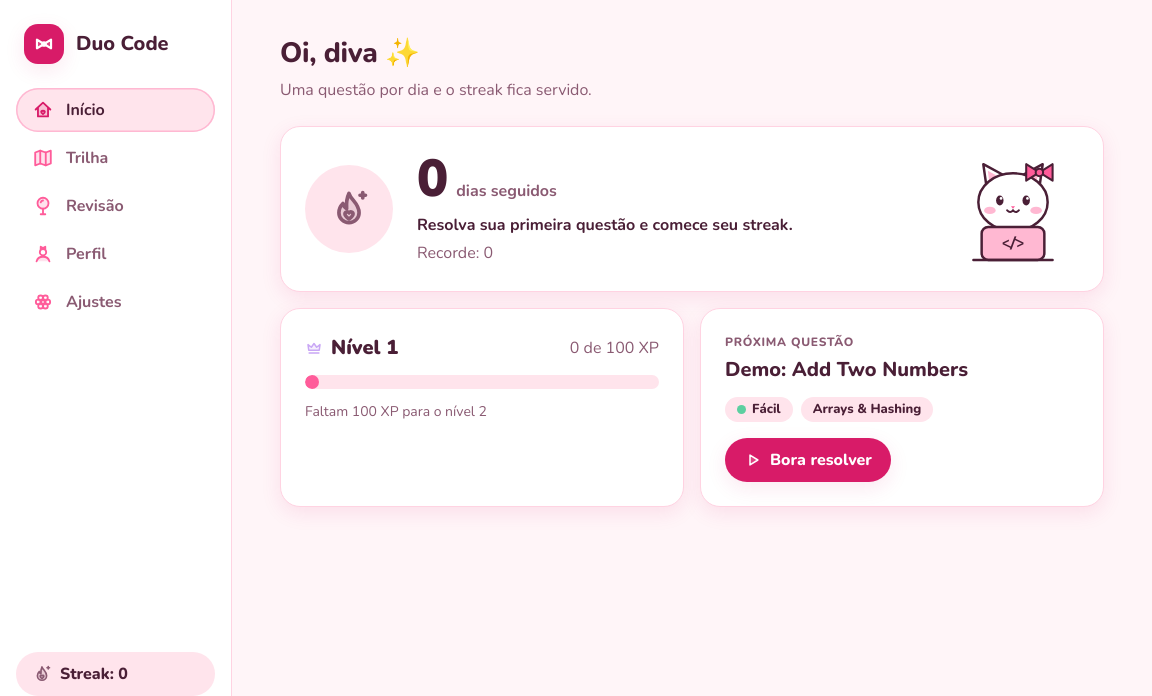
it: Perfil (003 RF-5) › lista todas as conquistas, bloqueadas no começo
Click the link "Perfil": coordinates (69, 254) top-left (32, 243), bottom-right (106, 265)
(page scrolled)
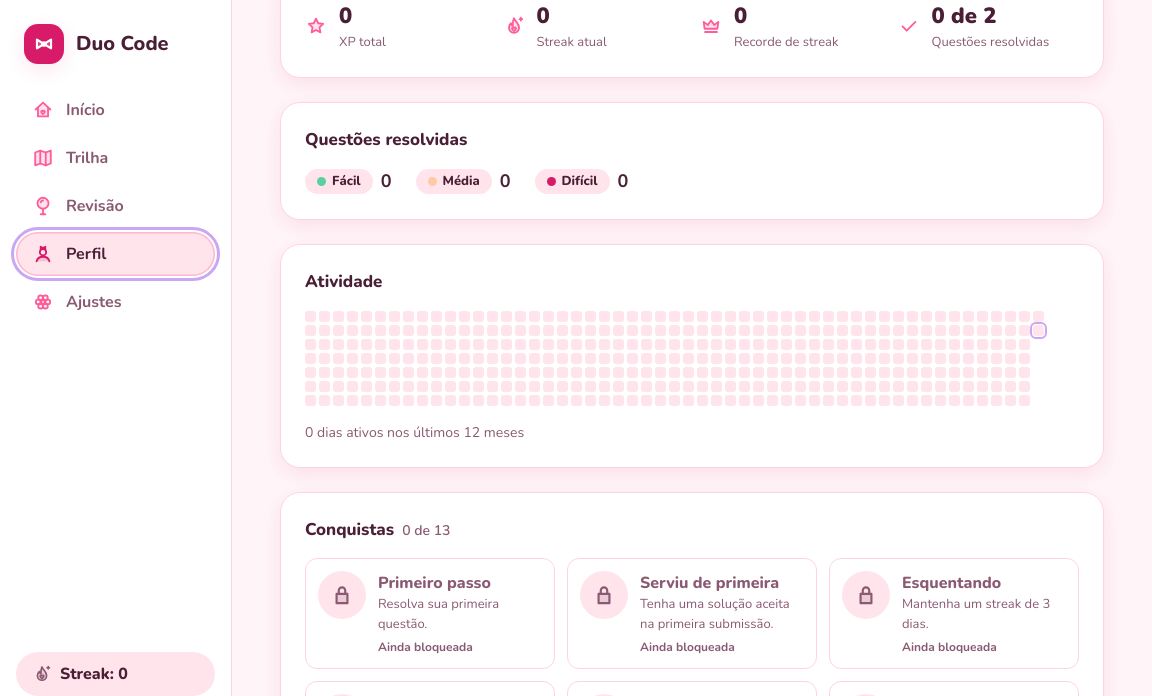
Now the text "Ainda bloqueada" is shown 13 times
